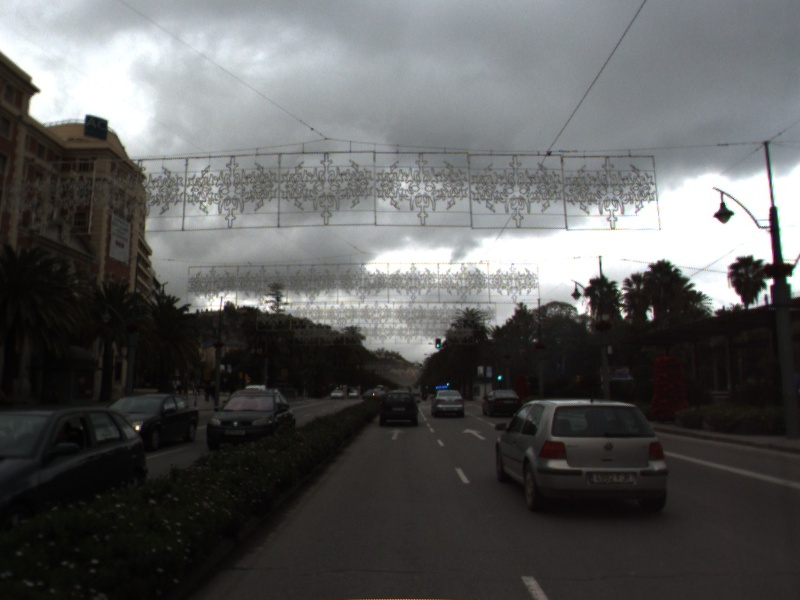STRAIGHT: (460, 426, 489, 442), (385, 426, 408, 442)
